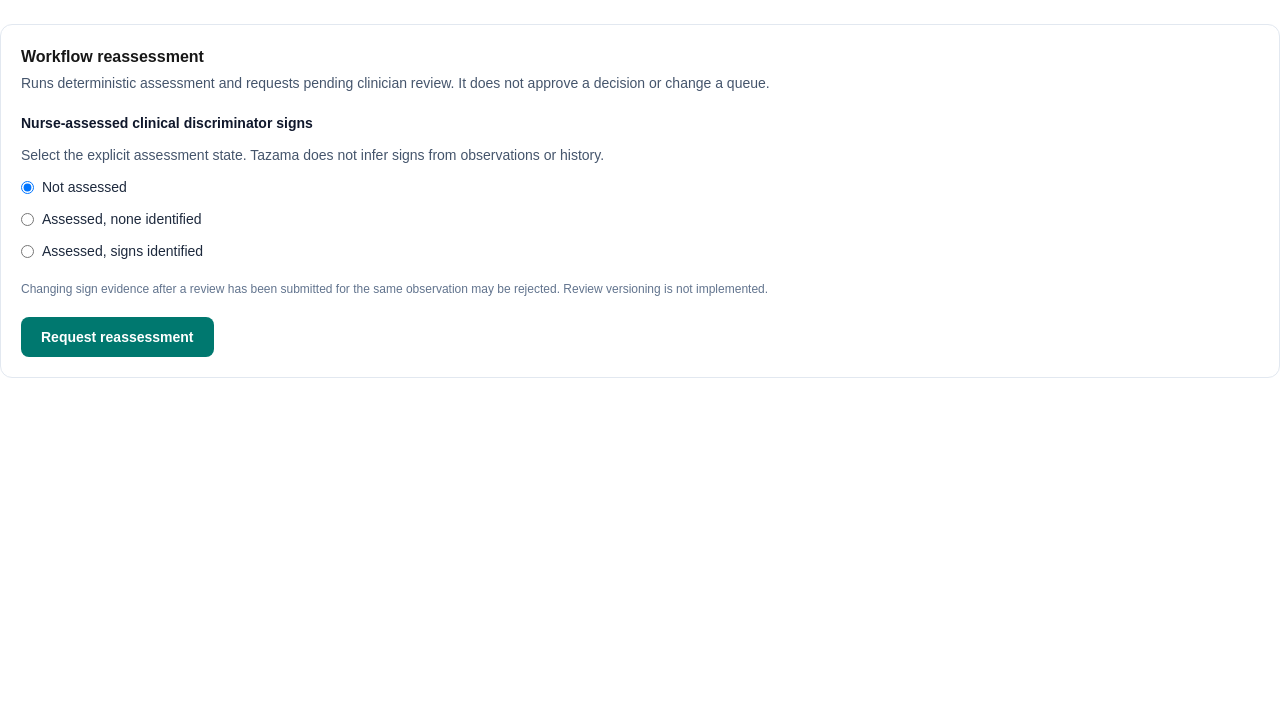
ReassessmentPanel › displays successful evidence and submits signs as not assessed
Step 1. Click the button "Request reassessment" → (117, 337), box [21,317,214,357]
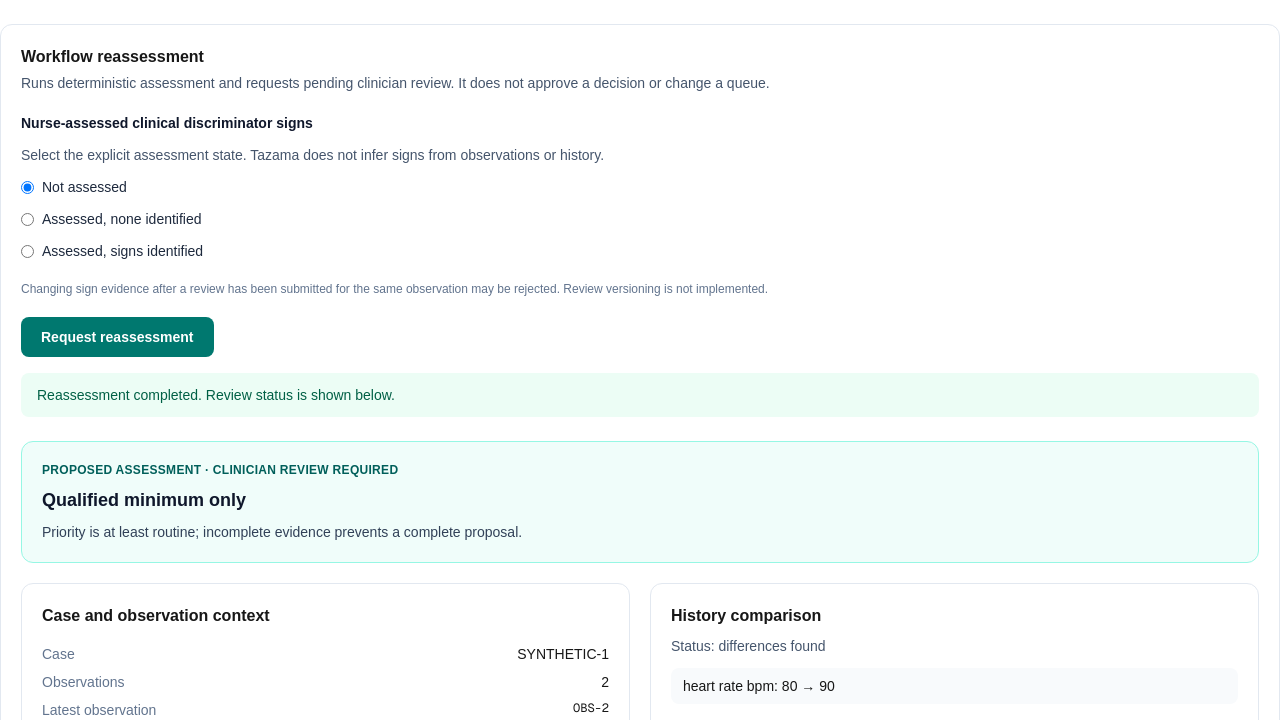
Expected: the heading "Qualified minimum only" is shown, [42,490,246,510]
Expected: the list item "heart rate bpm: 80 → 90" is shown, [671,668,1238,704]
Expected: the text "SYNTHETIC-1" is shown, [517,644,609,664]
